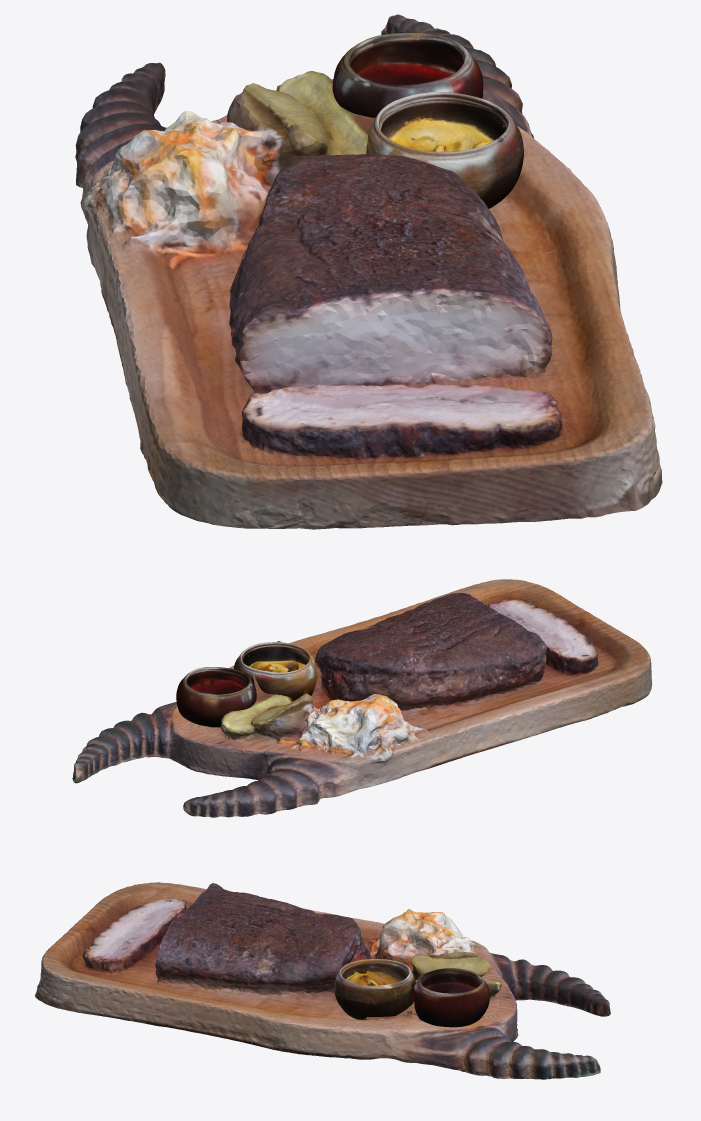
Rendered from staike.koochik.behine.glb.
The picture shows the model from 3 angles, top to bottom: view 1: azimuth 30°, elevation 25°; view 2: azimuth 150°, elevation 25°; view 3: azimuth 270°, elevation 25°; orthographic projection. The views are drawn at different scales.
Parts seen in each view (by area): view 1: object 1, world; view 2: object 1, world; view 3: object 1, world.
Part boxes in pixels (box(x1,y1,x2,y2)): object 1: box(75, 14, 662, 529); world: box(332, 33, 523, 208); object 1: box(72, 579, 652, 817); world: box(176, 641, 316, 727); object 1: box(35, 882, 610, 1079); world: box(334, 959, 489, 1027).
Size of the model in its own units: 0.405 by 0.0749 by 0.5592.
Materials: 4 (2 with a texture image).
